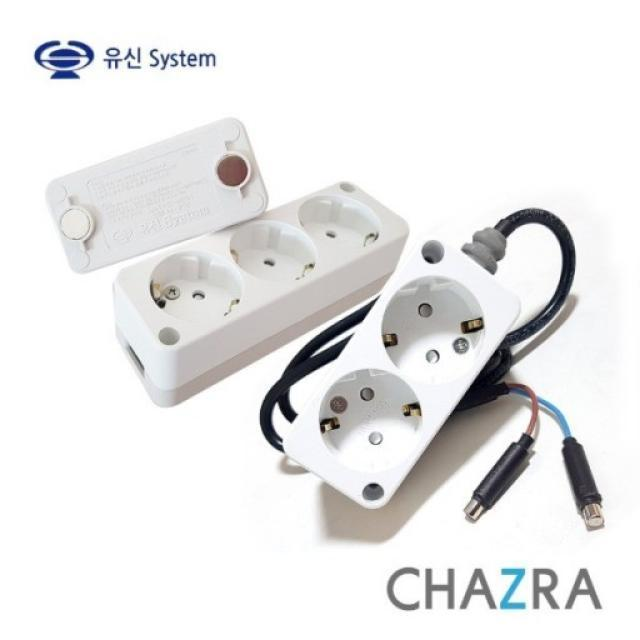typeb: (69, 145, 404, 381), (317, 236, 524, 521)
